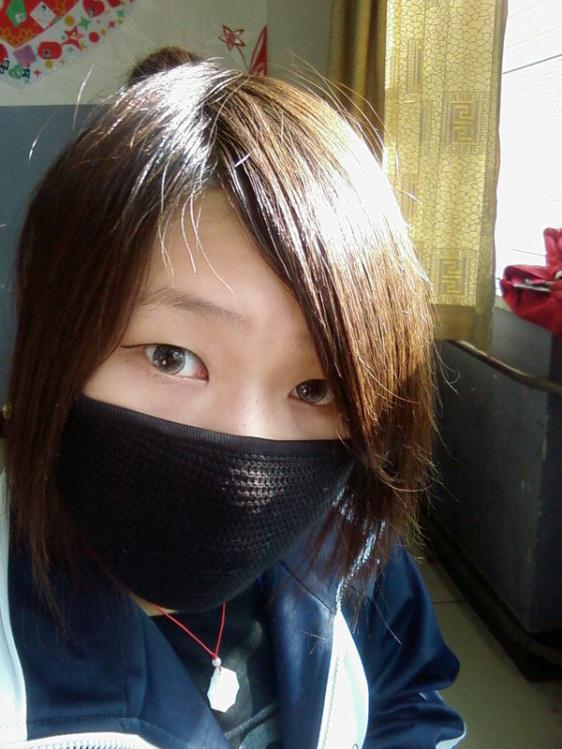OK: (61, 278, 387, 604)
